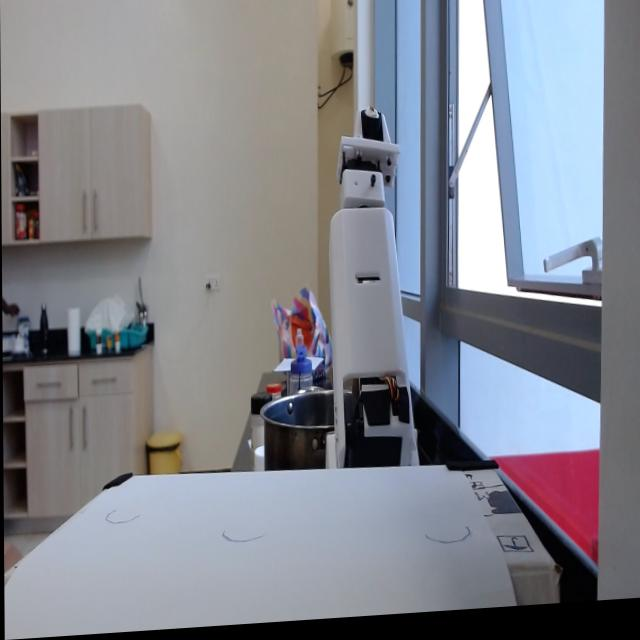cooking_pot: (259, 391, 337, 473)
